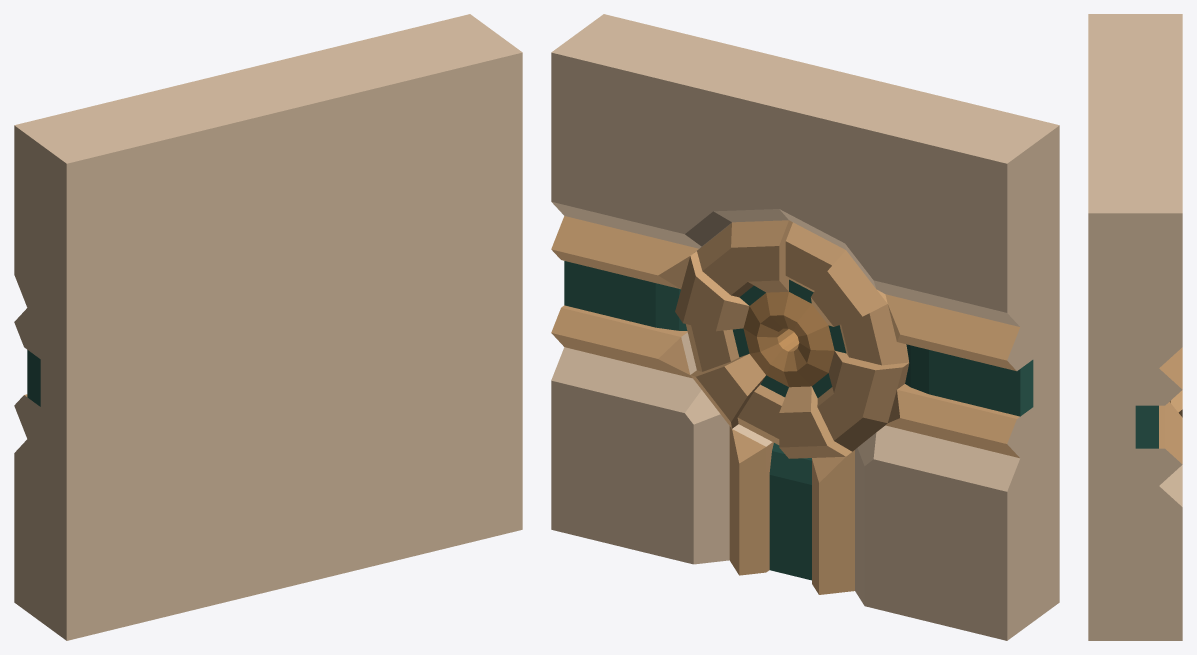
The model's file is Puzzle_Wall_Conduit_Emitter_TJoint.fbx.
The picture shows the model from 3 angles, left to right: view 1: azimuth 30°, elevation 25°; view 2: azimuth 150°, elevation 25°; view 3: azimuth 270°, elevation 25°; orthographic projection. The views are drawn at different scales.
Visible parts, largest first — view 1: Sandstone_Trim.Sandstone_Trim.Sandstone_Trim.Sandstone_Trim.; view 2: Sandstone_Trim.Sandstone_Trim.Sandstone_Trim.Sandstone_Trim., Sandstone_5.Sandstone_5.Sandstone_5.Sandstone_5.Sandstone_5. (×2), Sandstone_6.Sandstone_6.Sandstone_6.Sandstone_6.Sandstone_6, object1, object5, object4, object2; view 3: Sandstone_Trim.Sandstone_Trim.Sandstone_Trim.Sandstone_Trim., Sandstone_5.Sandstone_5.Sandstone_5.Sandstone_5.Sandstone_5. (×2), object5.
Boxes of the visible parts, x1,y1,x2,y2 form: Sandstone_Trim.Sandstone_Trim.Sandstone_Trim.Sandstone_Trim.: (14, 14, 522, 640); Sandstone_Trim.Sandstone_Trim.Sandstone_Trim.Sandstone_Trim.: (551, 14, 1059, 640); Sandstone_5.Sandstone_5.Sandstone_5.Sandstone_5.Sandstone_5. (×2): (551, 216, 1020, 594); Sandstone_6.Sandstone_6.Sandstone_6.Sandstone_6.Sandstone_6: (743, 292, 834, 387); object1: (905, 344, 1033, 416); object5: (564, 261, 687, 330); object4: (769, 443, 811, 580); object2: (733, 279, 846, 397); Sandstone_Trim.Sandstone_Trim.Sandstone_Trim.Sandstone_Trim.: (1088, 14, 1182, 640); Sandstone_5.Sandstone_5.Sandstone_5.Sandstone_5.Sandstone_5. (×2): (1159, 347, 1182, 463); object5: (1135, 405, 1158, 448).
Size of the model in its own units: 1 by 1 by 0.2.
